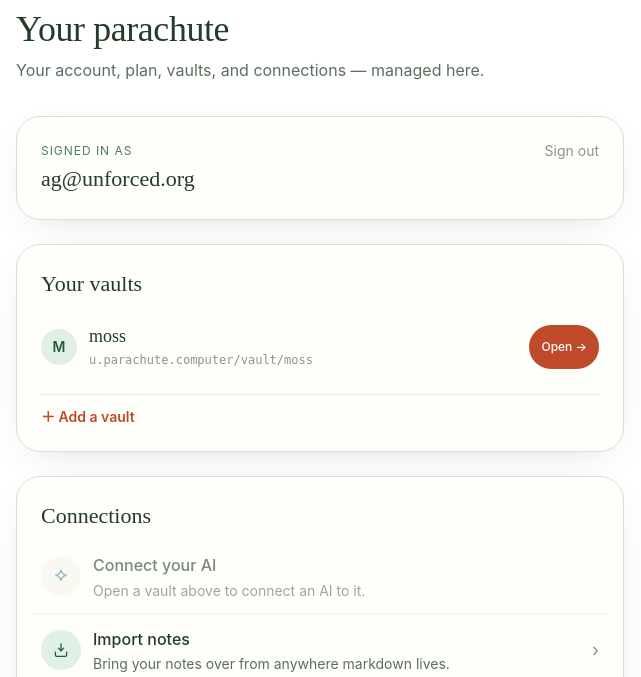
Account — 'Your parachute', the four-card manager home › maps a bare wire code to friendly copy when opening a vault fails
What coordinates should you click on to do the following:
click the button "Open →"
I would click on:
 (564, 347)
Its box is x1=530 y1=325 x2=599 y2=369.
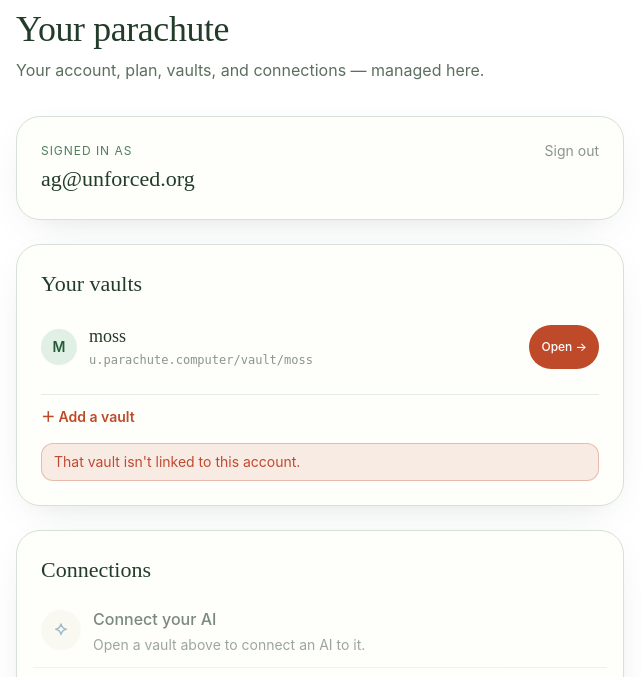
Now the text "That vault isn't linked to this account." is shown, box x1=41 y1=444 x2=599 y2=482
